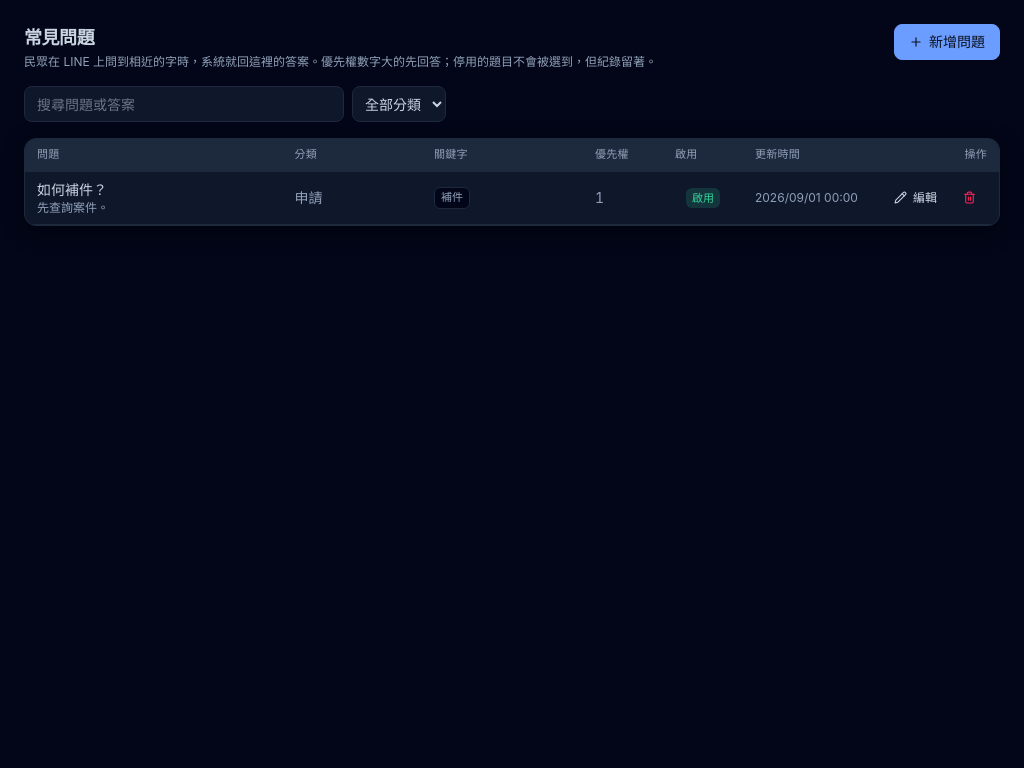
Scenario: 在右側抽屜編輯 FAQ 並帶版本儲存，關閉後保留列表
Click the button "編輯".
click(916, 198)  # box [883,184,948,212]
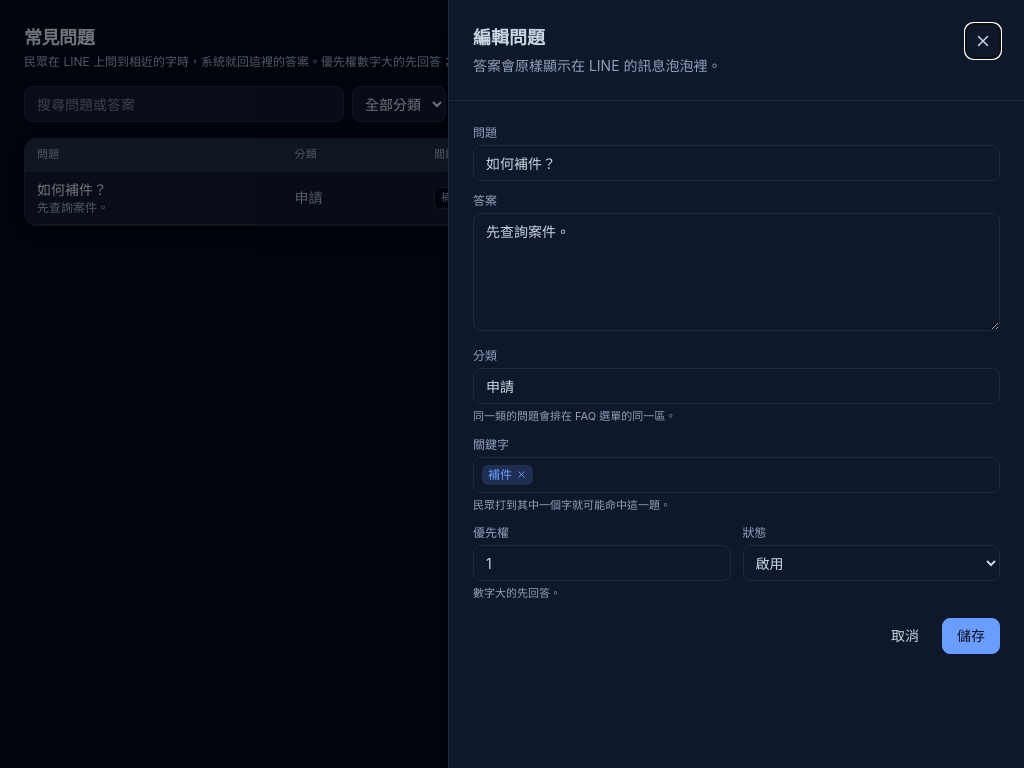
Replace the text in the text box labelled "答案" with "查詢案件後上傳指定期數文件。" at (736, 272), box [473,213,1000,331]
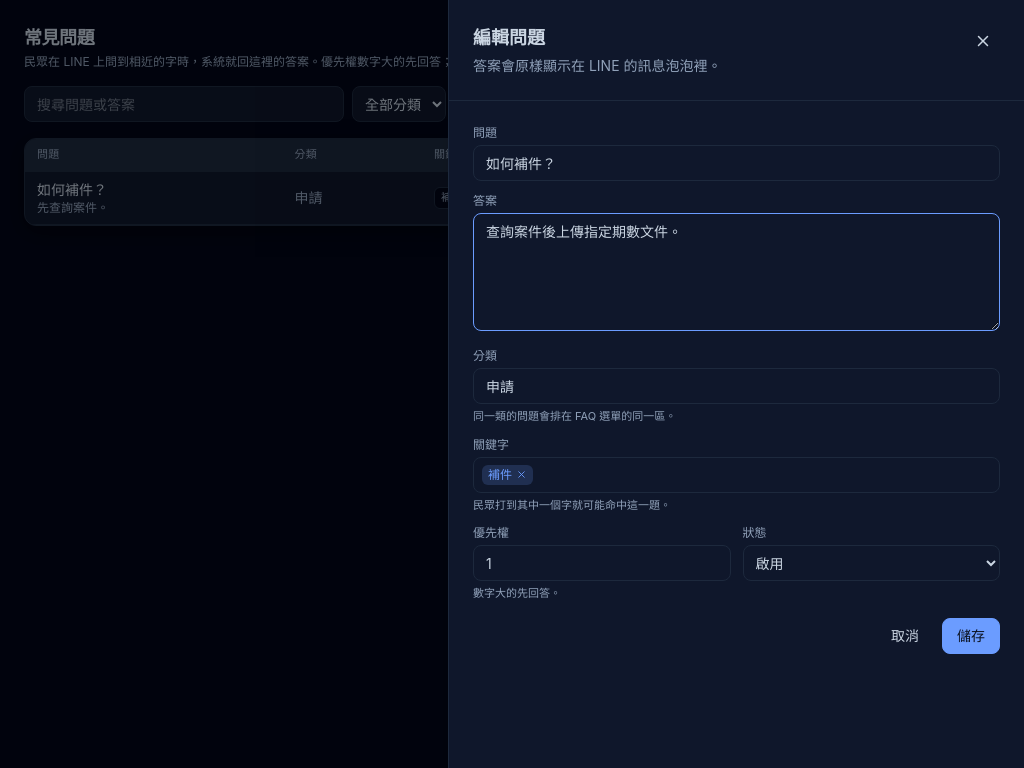
Click the button "儲存".
click(971, 636)  # box [942,618,1000,654]
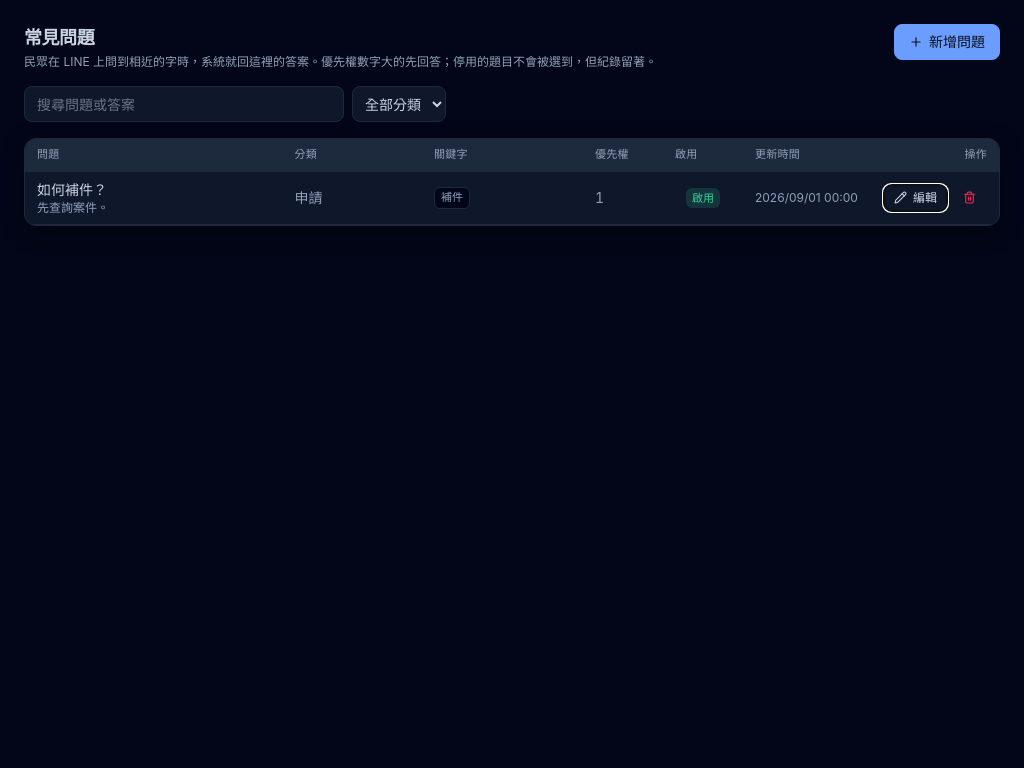
Expected: the text "如何補件？" is shown, [37,181,107,198]
Result: the dialog is gone
